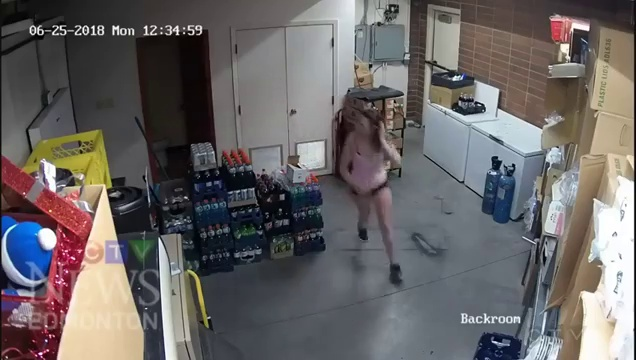face: (352, 112, 374, 137)
